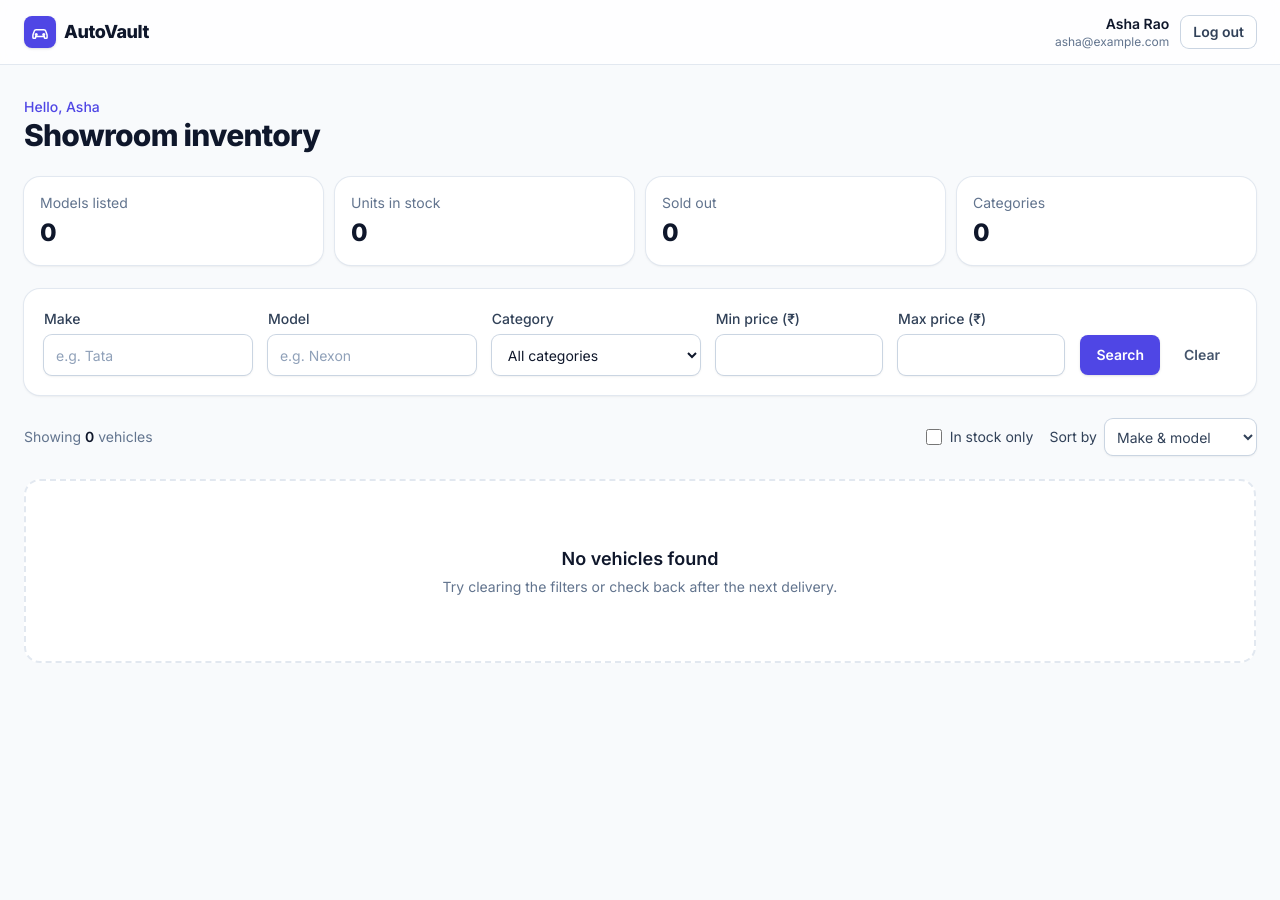
authentication flow › logs out
The image size is (1280, 900).
Click the button "Log out": click(1219, 32) [1181,16,1256,48]
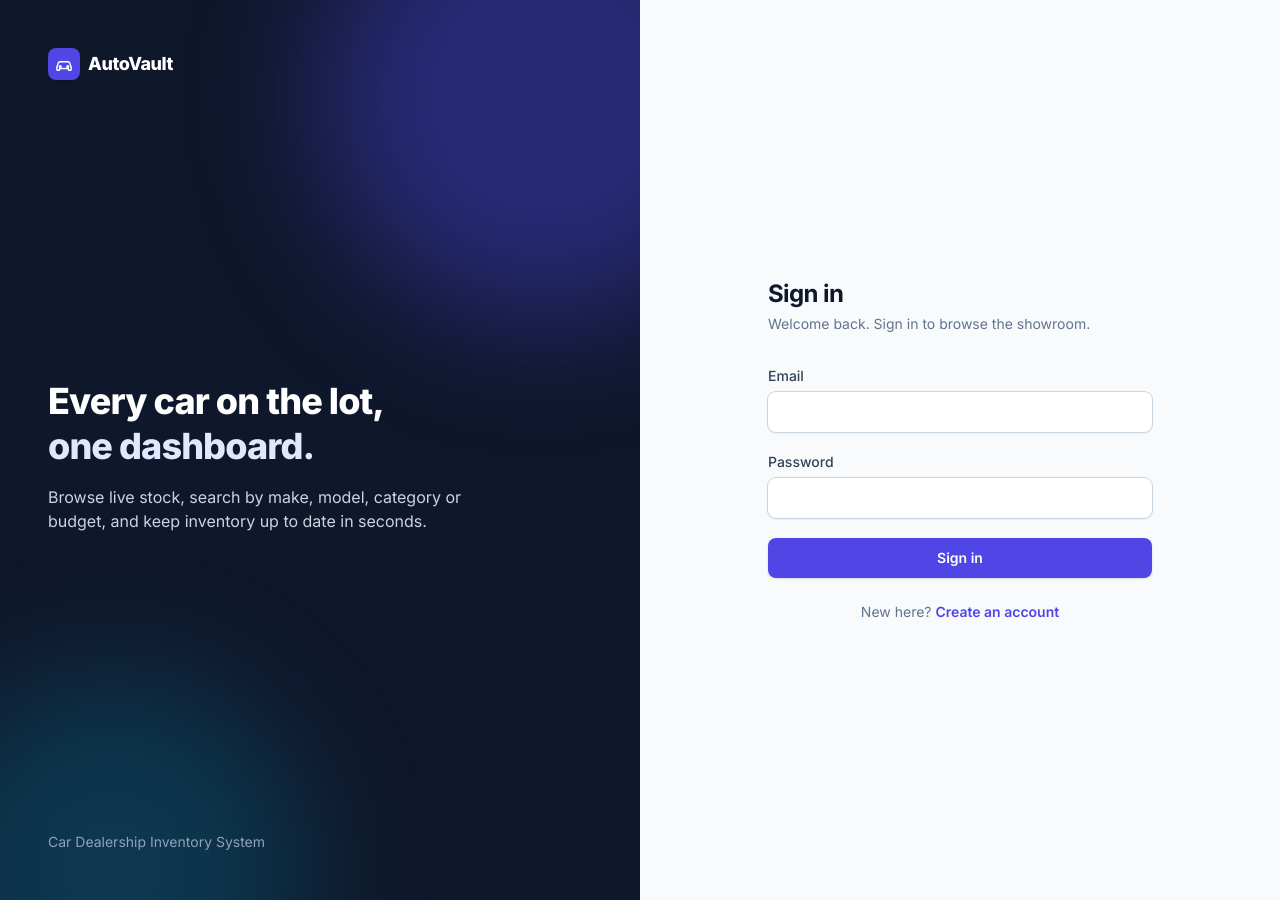
Check: the heading "Sign in" is shown, box [768,279,843,308]
